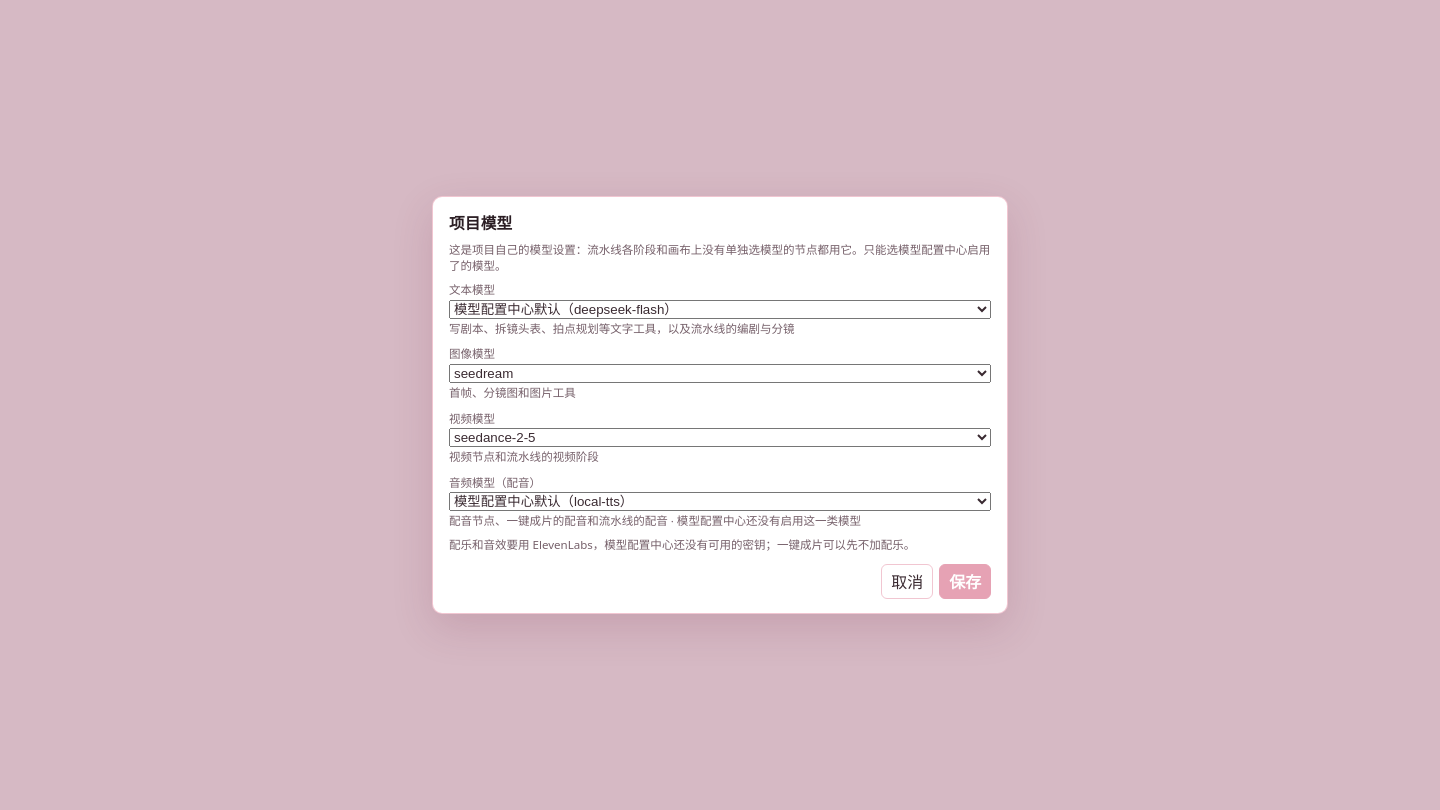
the project models from the canvas › shows the four models and sends only what changed
Expected: the dropdown labelled "视频模型" shows "seedance-2-5", [449, 428, 991, 447]
Expected: the text "配乐和音效要用 ElevenLabs，模型配置中心还没有可用的密钥；一键成片可以先不加配乐。" is shown, [449, 537, 991, 552]
Select "deepseek-v4-pro" in the dropdown labelled "文本模型" at (720, 309), box [449, 300, 991, 319]
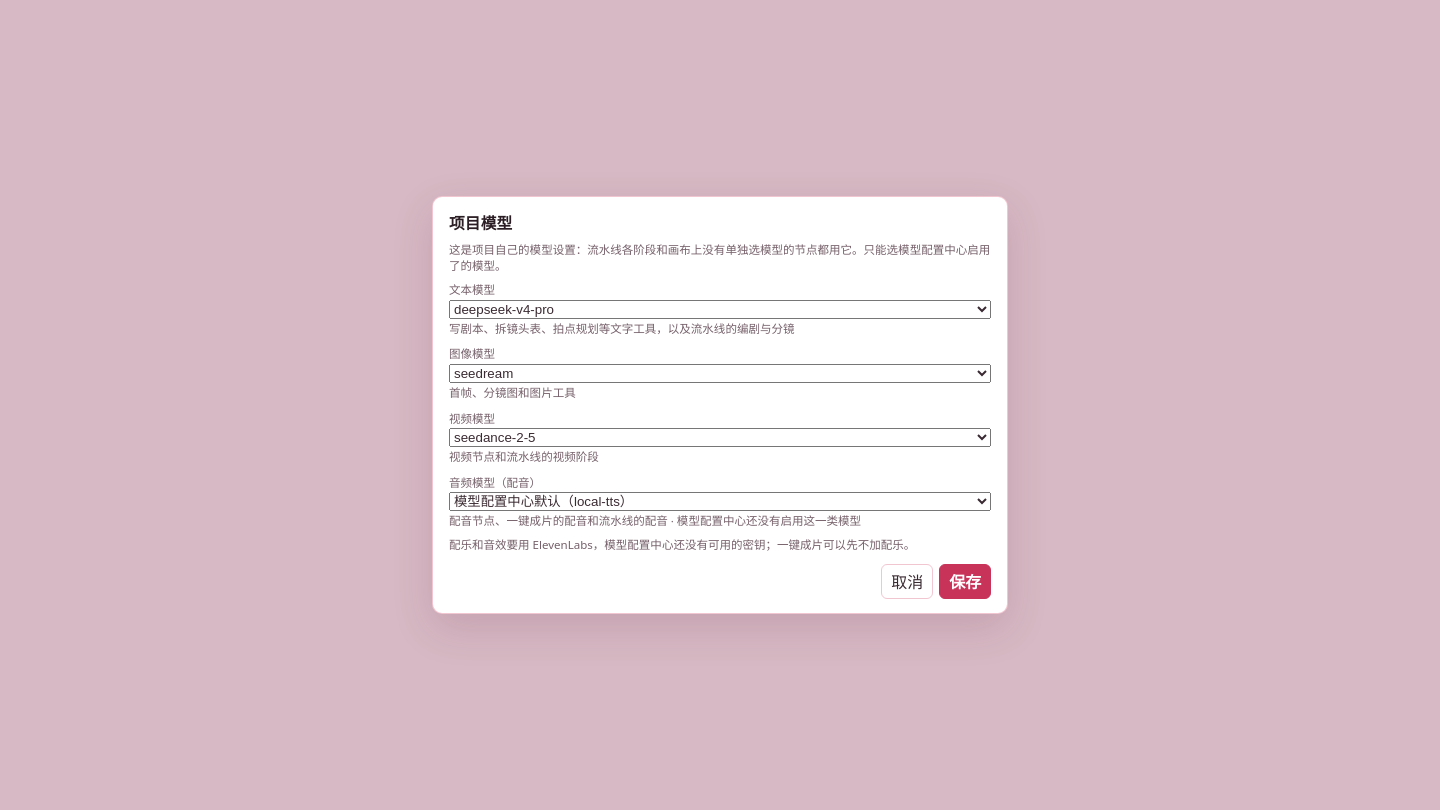
Click the button "保存" at (965, 581), box [939, 564, 991, 599]
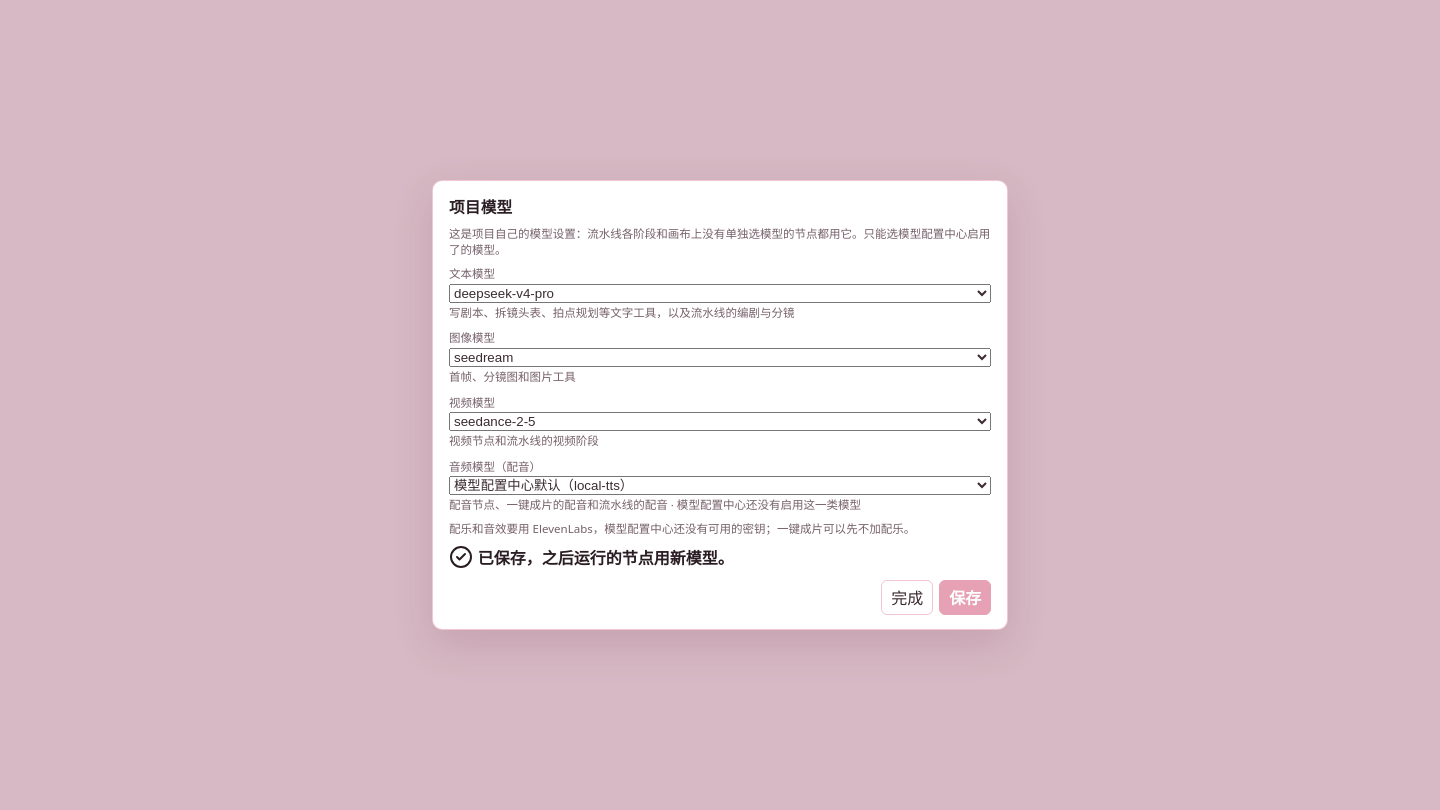
Expected: the text "已保存，之后运行的节点用新模型。" is shown, [449, 544, 734, 568]
